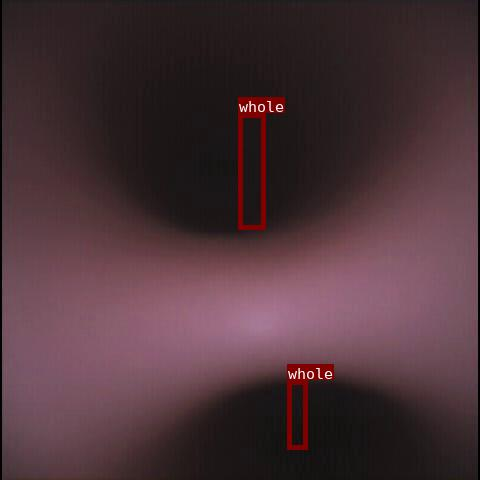whole: (238, 113, 265, 229), (287, 380, 307, 449)
